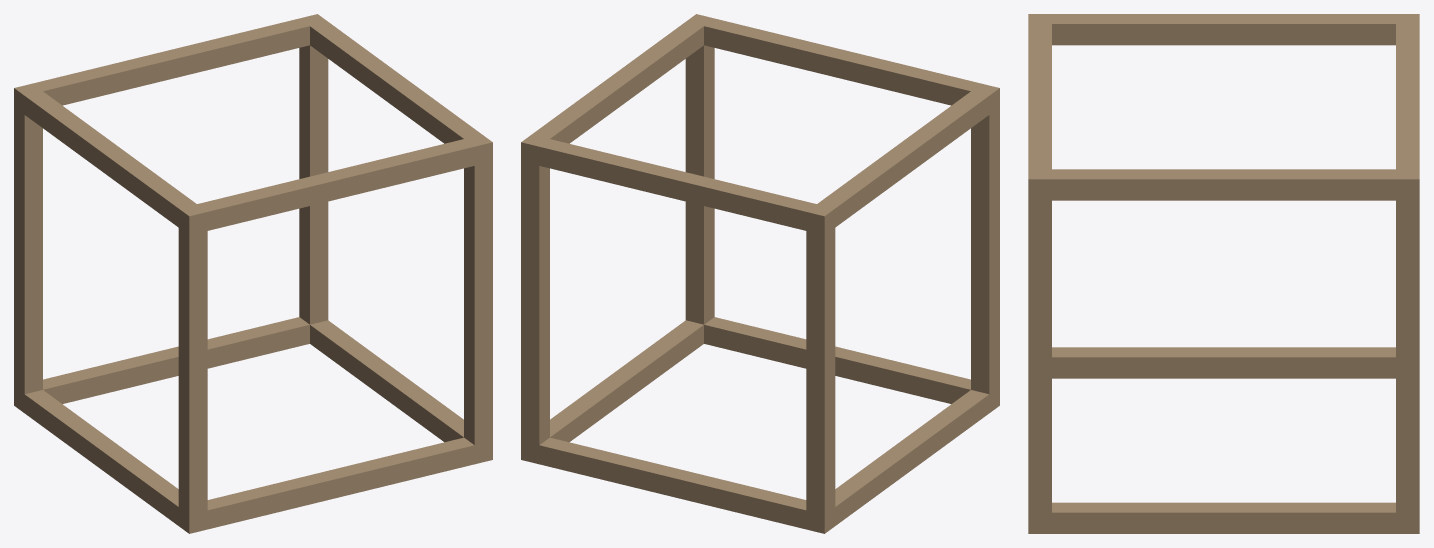
File: cube_frame.glb
The picture shows the model from 3 angles, left to right: view 1: azimuth 30°, elevation 25°; view 2: azimuth 150°, elevation 25°; view 3: azimuth 270°, elevation 25°; orthographic projection. The views are drawn at different scales.
Parts seen in each view (by area): view 1: world; view 2: world; view 3: world.
Part boxes in pixels (<box>): world: <box>14,14,492,533</box>; world: <box>521,14,999,533</box>; world: <box>1028,14,1419,533</box>.
Size of the model in its own units: 2.66 by 2.66 by 2.66.
